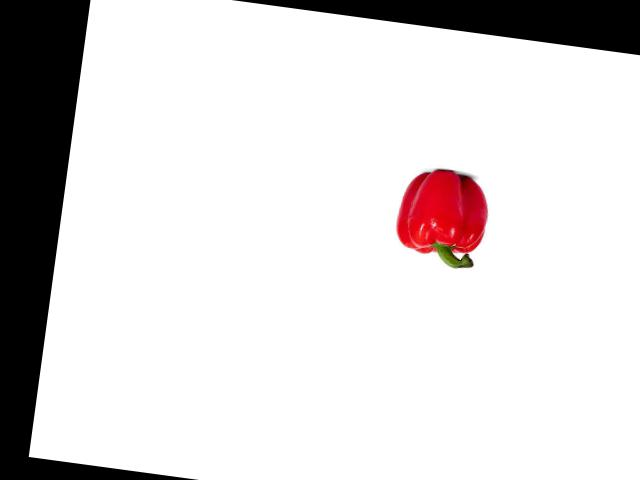bell_pepper: (386, 164, 495, 273)
